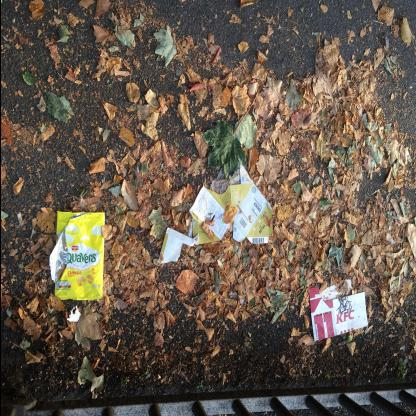karton: (158, 160, 274, 266), (309, 281, 369, 343)
plastik: (50, 211, 106, 303)
